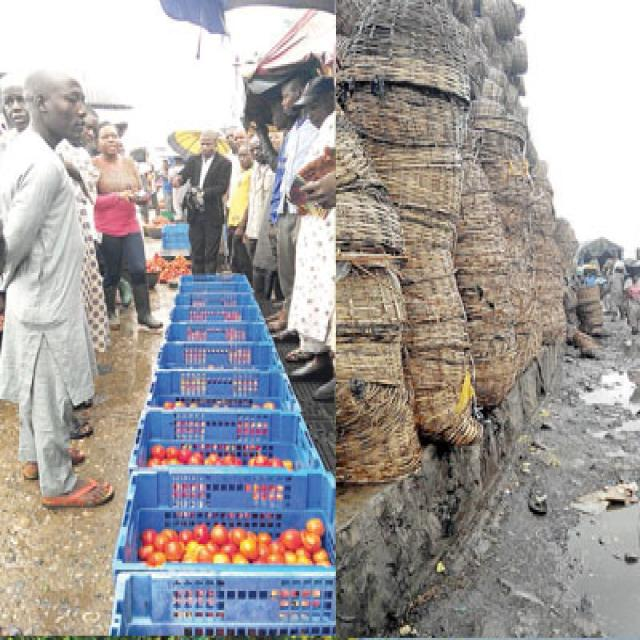basket: (111, 461, 340, 577), (110, 565, 336, 638), (129, 406, 323, 470), (147, 371, 301, 412), (158, 341, 282, 371), (166, 322, 272, 343), (171, 305, 262, 322), (179, 275, 251, 293), (174, 292, 256, 306), (160, 222, 190, 252)
